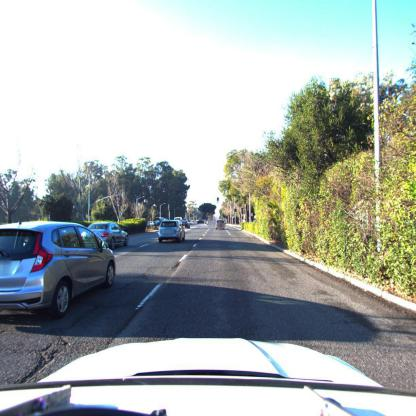car: (0, 221, 119, 318), (87, 223, 127, 250), (159, 220, 186, 243), (215, 217, 226, 231), (180, 219, 190, 229), (148, 221, 158, 230)
